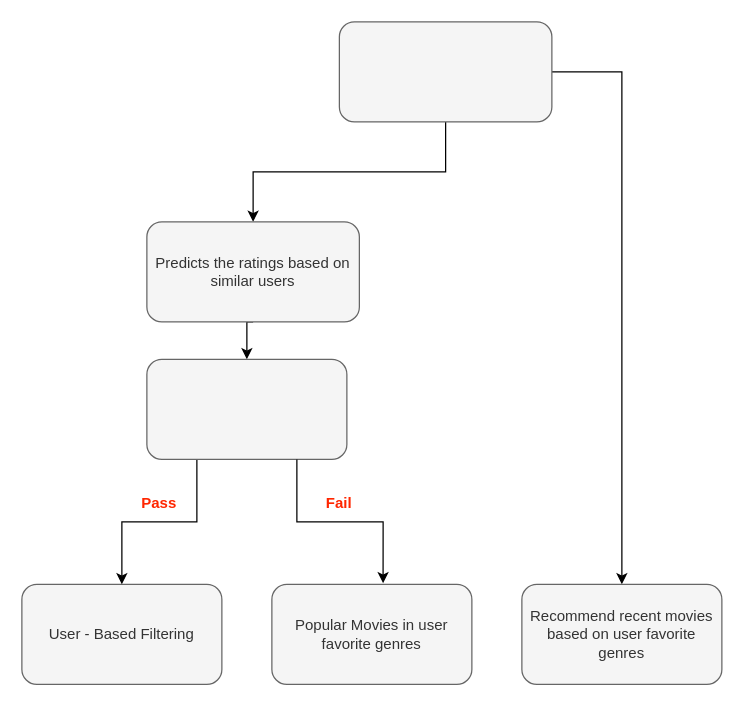
Image size: 744x706. Some labels were removed from this diagram. Here are the shapes that lost their labels. From the top down, the box of each, then its label:
(338, 21, 552, 122): User Profile
(146, 358, 347, 459): Evaluate on different criteria
